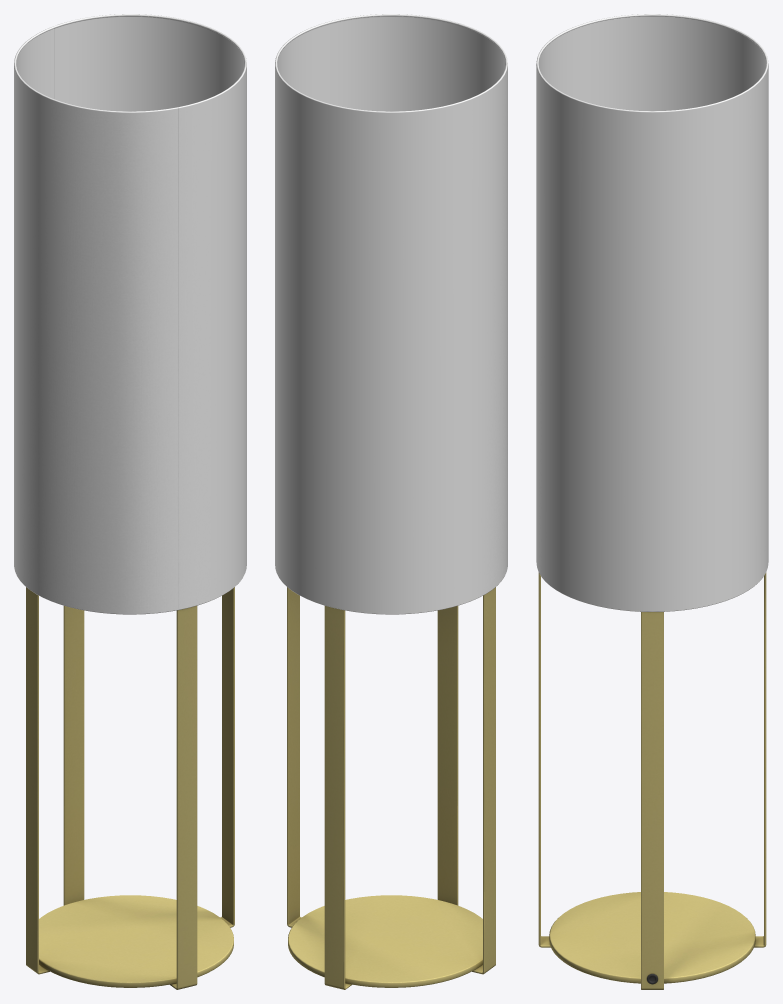
File: Taale Floor Lamp.FBX
3 renders of one model, left to right at view 1: azimuth 30°, elevation 25°; view 2: azimuth 150°, elevation 25°; view 3: azimuth 270°, elevation 25°, orthographic.
Parts seen in each view (by area): view 1: Taale_Floor_Lamp; view 2: Taale_Floor_Lamp; view 3: Taale_Floor_Lamp.
Part boxes in pixels (x1,y1,x2,y2): Taale_Floor_Lamp: [14, 14, 246, 989]; Taale_Floor_Lamp: [275, 14, 507, 989]; Taale_Floor_Lamp: [536, 14, 768, 989].
Size of what is drawn, in the model's own units: 30.81 by 129 by 30.81.
